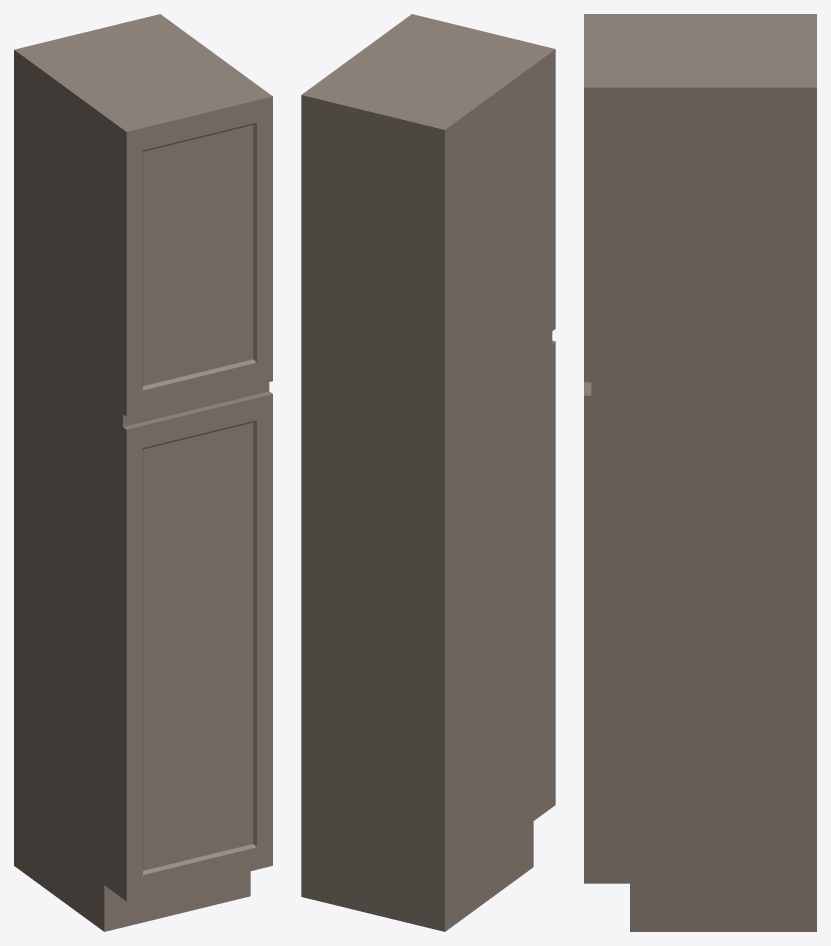
Rendered from Universal-Design-Utility-Cabinet-24-Deep_std_001_W18in_1D.glb.
3 renders of one model, left to right at view 1: azimuth 30°, elevation 25°; view 2: azimuth 150°, elevation 25°; view 3: azimuth 270°, elevation 25°, orthographic. The views are drawn at different scales.
Parts seen in each view (by area): view 1: Universal-Design-Utility-Cabinet-24-Deep.std.001_W18in_1D; view 2: Universal-Design-Utility-Cabinet-24-Deep.std.001_W18in_1D; view 3: Universal-Design-Utility-Cabinet-24-Deep.std.001_W18in_1D.
Part boxes in pixels (x1,y1,x2,y2): Universal-Design-Utility-Cabinet-24-Deep.std.001_W18in_1D: [14, 14, 272, 931]; Universal-Design-Utility-Cabinet-24-Deep.std.001_W18in_1D: [301, 14, 555, 931]; Universal-Design-Utility-Cabinet-24-Deep.std.001_W18in_1D: [584, 14, 816, 931].
Size of the model in its own units: 0.4572 by 2.44 by 0.6096.
